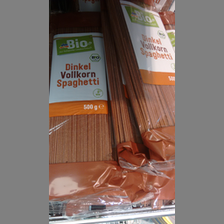pasta: (49, 16, 114, 199), (110, 1, 175, 156)
